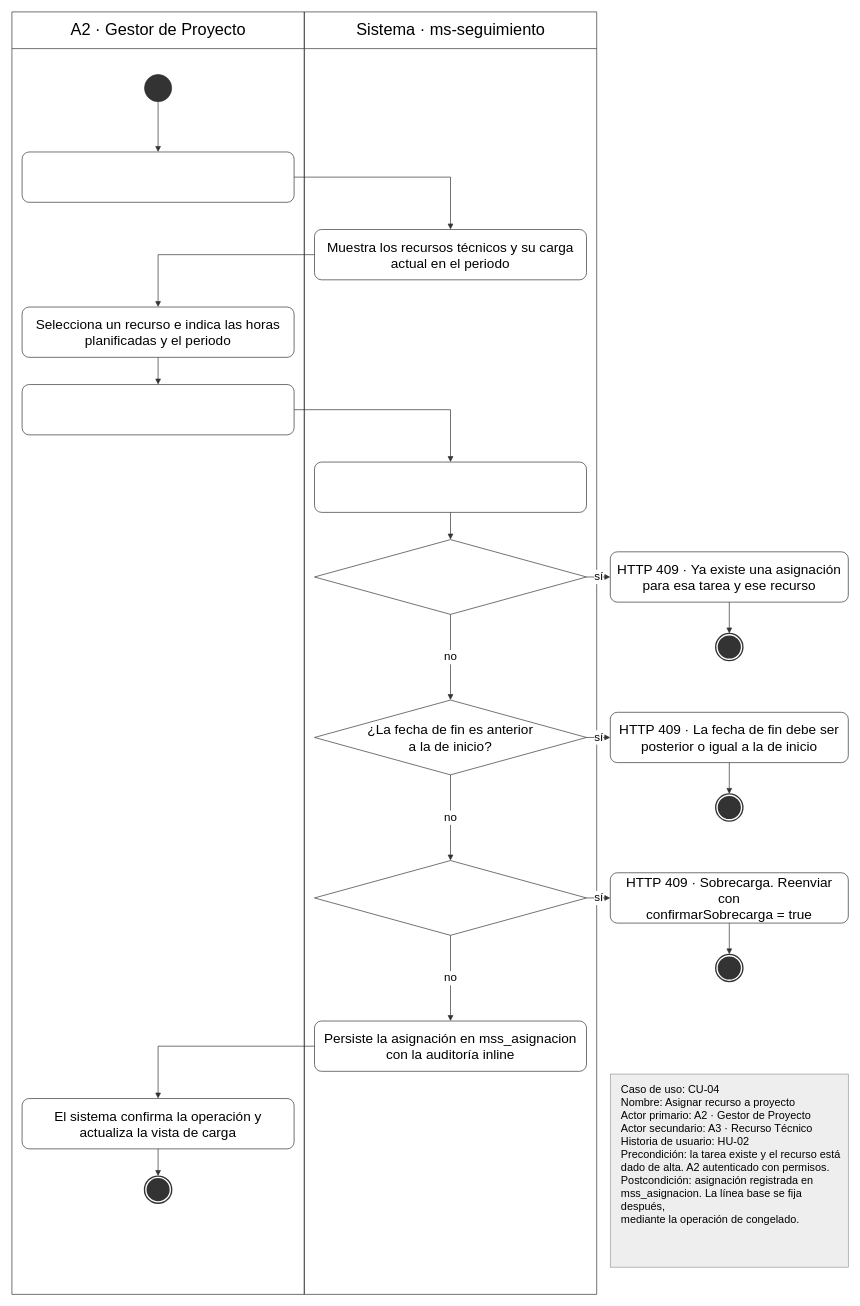
The diagram is 860 pixels wide and 1306 high, and some of its shapes have lost their labels. The centre of each missing label's shape, as x and y in pixels:
"Accede a «Planificación» y selecciona el proyecto y la tarea" goes at point 157,176.
"Pulsa «Asignar»" goes at point 157,409.
"Recibe POST /api/asignaciones" goes at point 450,486.
"¿La carga total supera la capacidad del periodo y no se confirmó?" goes at point 450,897.
"¿Ya existe una asignación para esa tarea y ese recurso?" goes at point 450,576.
